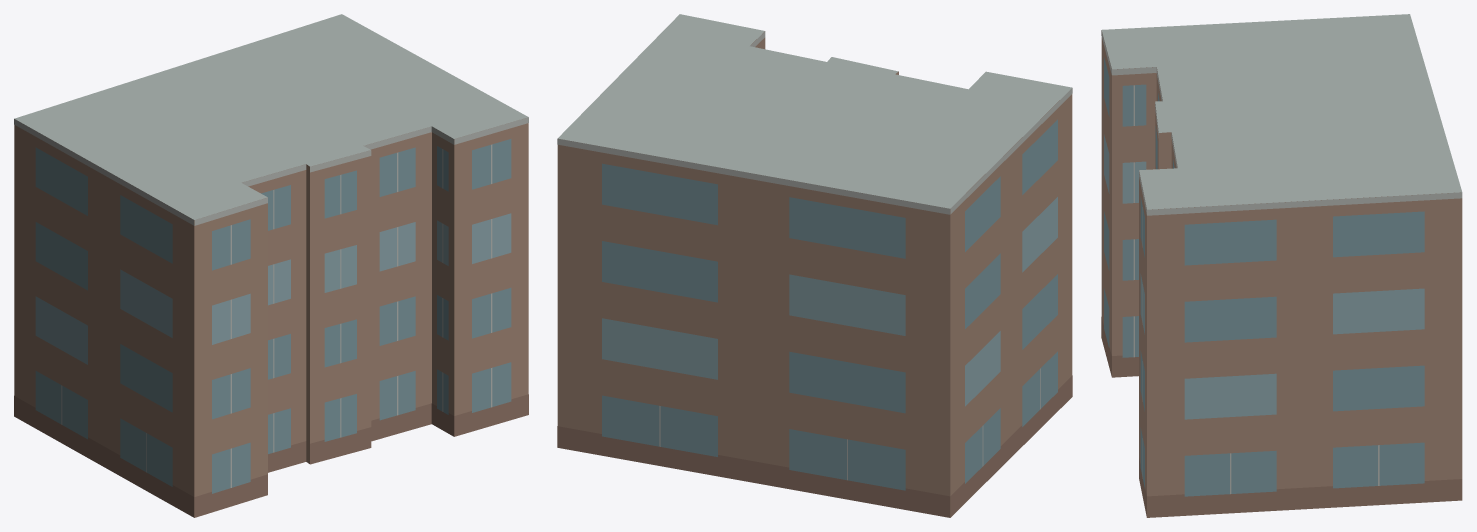
Rendered from survey-upis-32745747.glb.
3 renders of one model, left to right at view 1: azimuth 30°, elevation 25°; view 2: azimuth 150°, elevation 25°; view 3: azimuth 270°, elevation 25°, orthographic. The views are drawn at different scales.
Visible parts, largest first — view 1: survey-upis-32745747.tmp; view 2: survey-upis-32745747.tmp; view 3: survey-upis-32745747.tmp.
Part boxes in pixels (left/top/right/bottom): survey-upis-32745747.tmp: left=14, top=14, right=528, bottom=517; survey-upis-32745747.tmp: left=557, top=14, right=1072, bottom=517; survey-upis-32745747.tmp: left=1101, top=14, right=1462, bottom=517.
Bounding box in the file's own units: 16.9 × 12.4 × 13.17.
